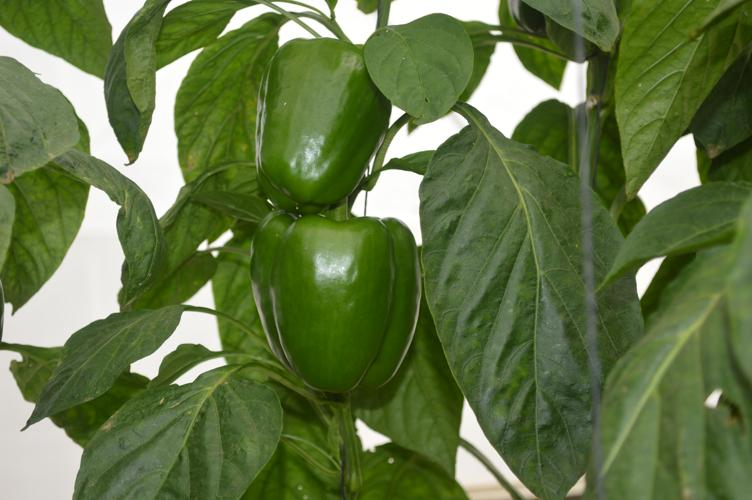BellPepper: (248, 216, 429, 397), (251, 39, 386, 213)
